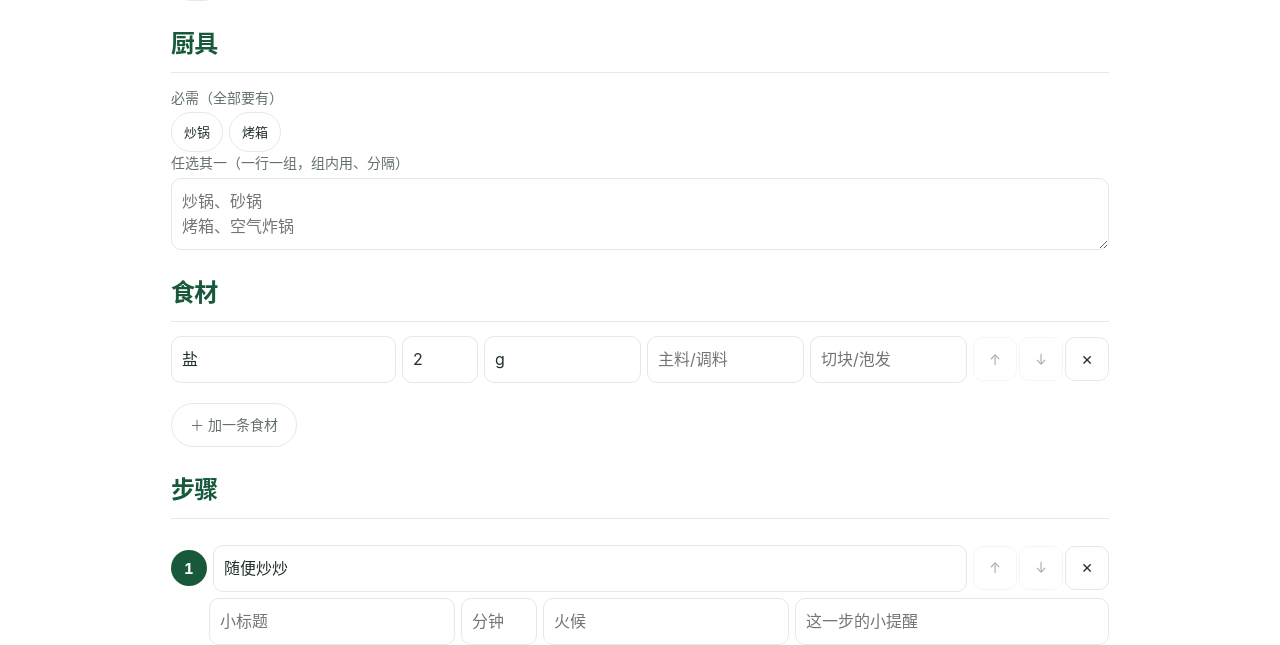
Test: 编辑页（CB-009） › 服务端 400 → 列出字段级问题（并保留页面上的改动）
(page scrolled)
Clear the field showing "盐": (284, 359) x1=171 y1=336 x2=396 y2=383
(page scrolled)
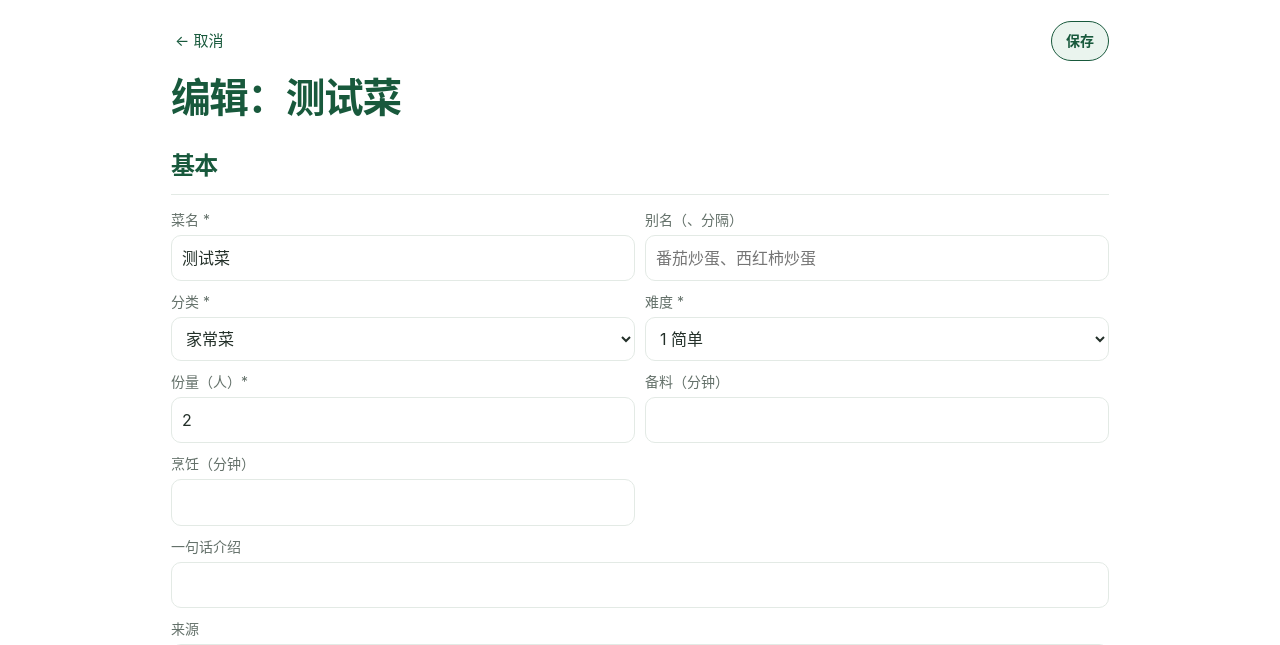
Click the button "保存": (1080, 41) x1=1051 y1=21 x2=1109 y2=61
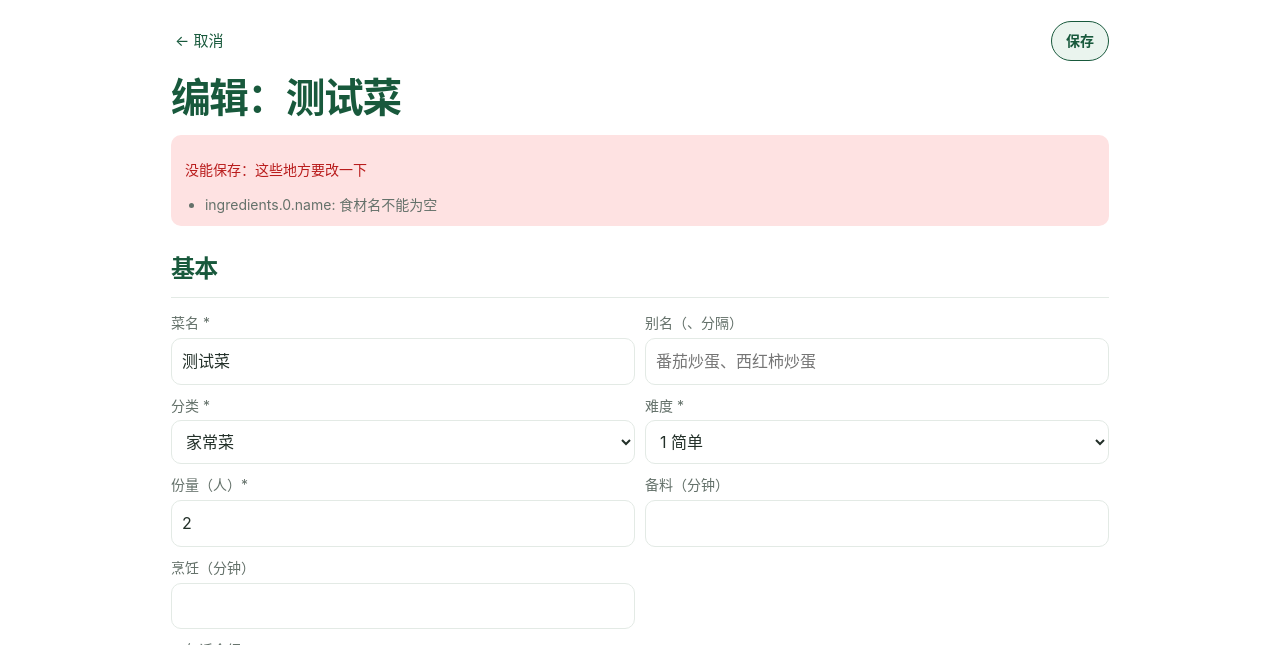
Expected: the field showing "测试菜" is shown, x1=171 y1=338 x2=635 y2=385
Result: the list item "ingredients.0.name: 食材名不能为空" is shown at x1=205 y1=196 x2=437 y2=213
